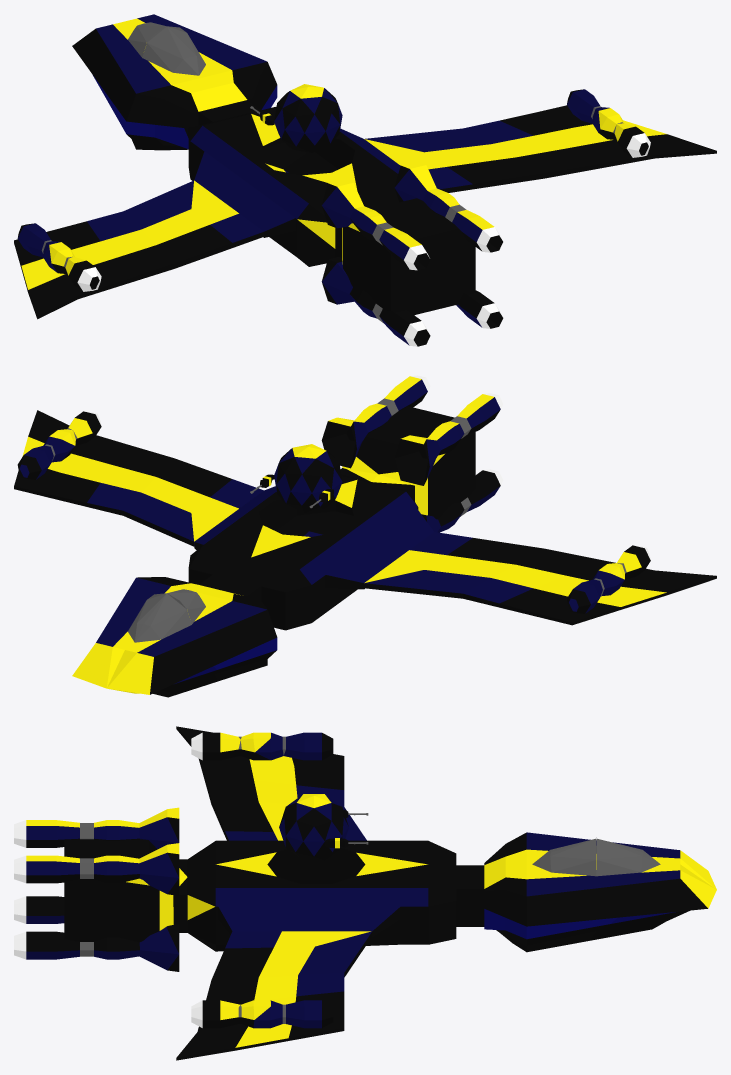
Rendered from Ship1.glb.
3 views of the same model, one above another, from view 1: azimuth 30°, elevation 25°; view 2: azimuth 150°, elevation 25°; view 3: azimuth 270°, elevation 25° (orthographic).
Visible parts, largest first — view 1: Main wing, Structure, Main Body, Cylinder.001, Cube, Cylinder, Wing connection, Turret Body, Glass, Cockpit Connection; view 2: Main wing, Main Body, Structure, Cylinder.001, Cube, Cylinder, Wing connection, Turret Body, Glass, Cockpit Connection, Engine Connection.; view 3: Main wing, Main Body, Structure, Cylinder.001, Cube, Cylinder, Wing connection, Turret Body, Glass, Cockpit Connection, Engine Connection..
Boxes of the visible parts, bbox=[...] form: Main wing: bbox=[14, 105, 716, 319]; Structure: bbox=[72, 14, 277, 150]; Main Body: bbox=[188, 106, 398, 266]; Cylinder.001: bbox=[321, 160, 503, 346]; Cube: bbox=[342, 198, 475, 315]; Cylinder: bbox=[17, 89, 650, 291]; Wing connection: bbox=[194, 128, 400, 237]; Turret Body: bbox=[274, 84, 342, 152]; Glass: bbox=[128, 22, 205, 75]; Cockpit Connection: bbox=[198, 100, 260, 125]; Main wing: bbox=[14, 410, 716, 625]; Main Body: bbox=[188, 474, 418, 630]; Structure: bbox=[72, 577, 277, 697]; Cylinder.001: bbox=[321, 375, 503, 532]; Cube: bbox=[342, 406, 475, 519]; Cylinder: bbox=[17, 411, 650, 613]; Wing connection: bbox=[194, 486, 433, 589]; Turret Body: bbox=[274, 444, 342, 513]; Glass: bbox=[128, 589, 205, 642]; Cockpit Connection: bbox=[199, 574, 261, 601]; Engine Connection.: bbox=[335, 468, 414, 515]; Main wing: bbox=[176, 726, 372, 1060]; Main Body: bbox=[187, 840, 456, 951]; Structure: bbox=[484, 832, 716, 952]; Cylinder.001: bbox=[14, 807, 179, 971]; Cube: bbox=[64, 839, 187, 942]; Cylinder: bbox=[191, 732, 333, 1028]; Wing connection: bbox=[218, 906, 400, 937]; Turret Body: bbox=[279, 794, 348, 860]; Glass: bbox=[532, 837, 660, 876]; Cockpit Connection: bbox=[456, 865, 484, 926]; Engine Connection.: bbox=[173, 859, 187, 932].
Size of the model in its own units: 22.4 by 4.82 by 20.08.
Materials: 1 (1 with a texture image).
